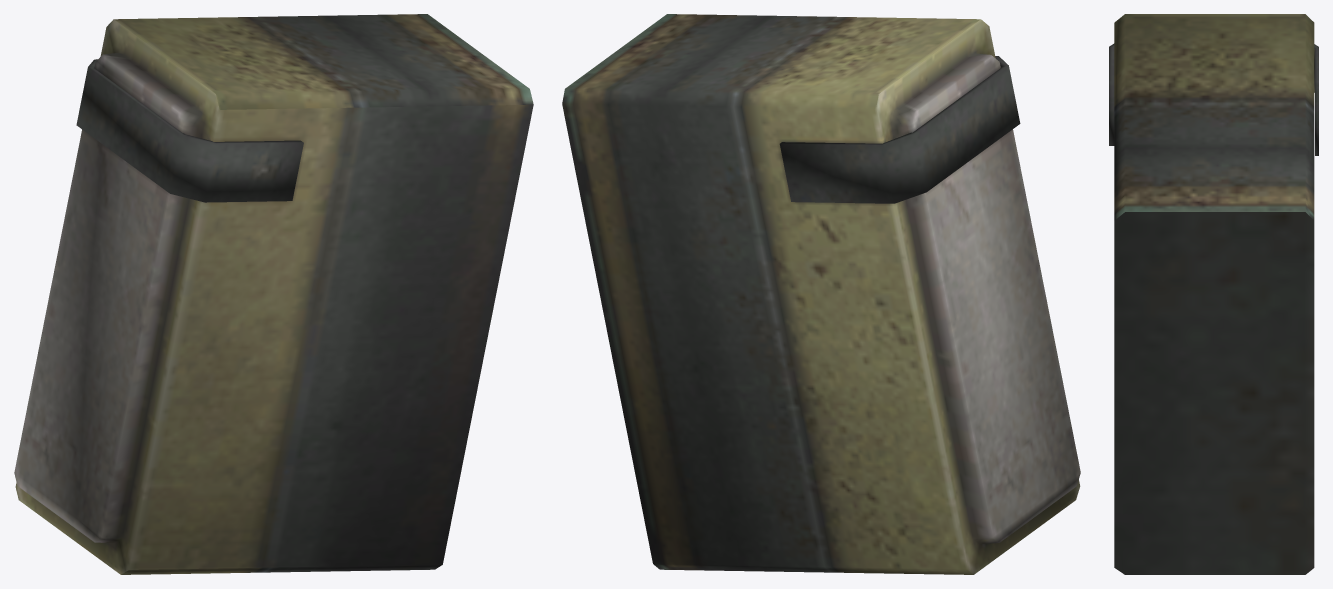
Rendered from t5_veh_rcbomb_gib_battery_LOD0.obj.
The picture shows the model from 3 angles, left to right: view 1: azimuth 30°, elevation 25°; view 2: azimuth 150°, elevation 25°; view 3: azimuth 270°, elevation 25°; orthographic projection. The views are drawn at different scales.
Visible parts, largest first — view 1: mtl_t5_veh_rcbomb_allies; view 2: mtl_t5_veh_rcbomb_allies; view 3: mtl_t5_veh_rcbomb_allies.
Part boxes in pixels (x1,y1,x2,y2): mtl_t5_veh_rcbomb_allies: (14,14,533,574); mtl_t5_veh_rcbomb_allies: (562,14,1080,574); mtl_t5_veh_rcbomb_allies: (1109,14,1318,574).
Bounding box in the file's own units: 19.62 × 23.49 × 9.57.
